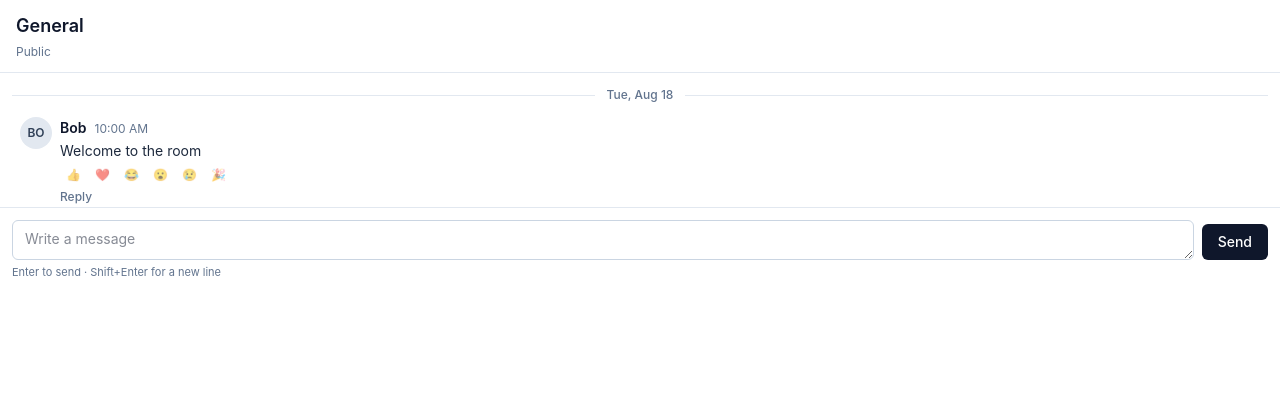
ChatPane › loads message history and sends a new message
Expected: the heading "General" is shown, [16, 12, 84, 40]
Expected: the text "Welcome to the room" is shown, [60, 142, 201, 159]
In the text box labelled "message": (603, 240) [12, 220, 1194, 260], type "Hello from Alice"
Then press Enter
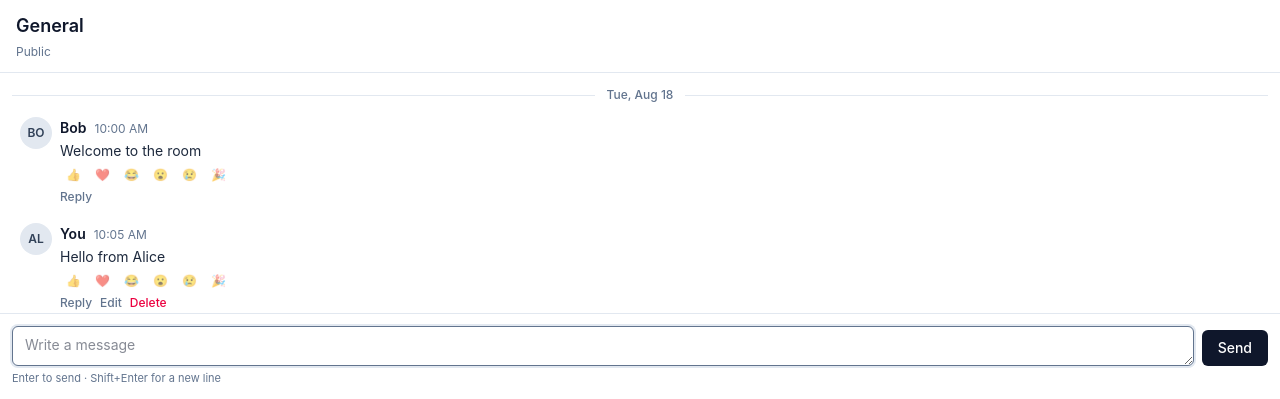
Expected: the text "Hello from Alice" is shown, [60, 248, 165, 265]
